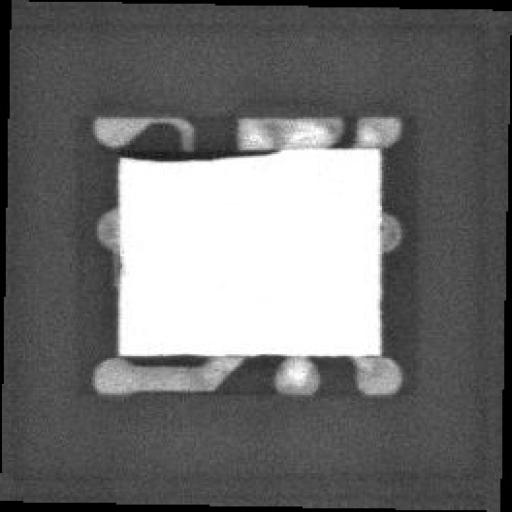DIE_BROKEN: (114, 146, 280, 162)
